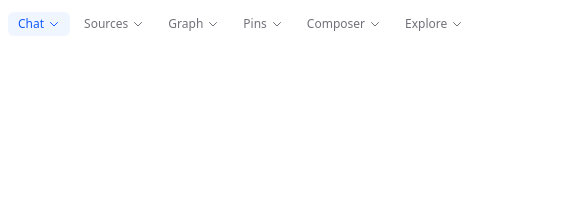
Test: ConversationTabs › renders Composer tab with multiple dropdown items
Click the button "Composer": click(344, 24) x1=297 y1=12 x2=391 y2=36
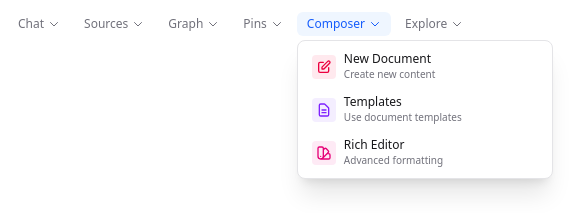
Expected: the text "New Document" is shown, x1=344 y1=50 x2=431 y2=67
Expected: the text "Templates" is shown, x1=344 y1=93 x2=402 y2=110
Expected: the text "Rich Editor" is shown, x1=344 y1=136 x2=404 y2=153
